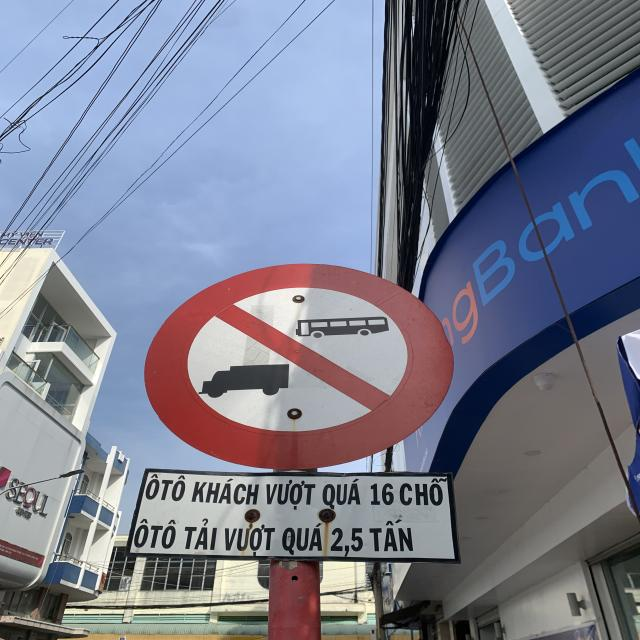Cam_XeTai_XeKhach: (144, 262, 452, 472)
